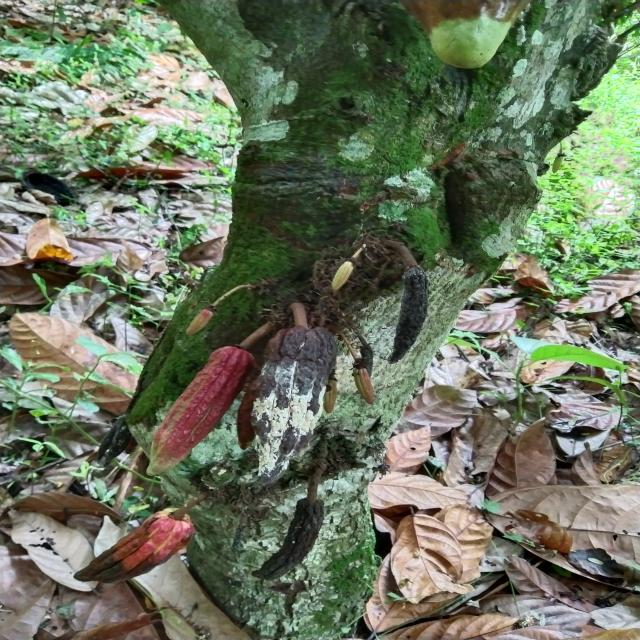Fitoftora: (77, 512, 194, 586), (248, 504, 328, 579)
Monilia: (231, 324, 335, 487), (380, 261, 429, 364)
Sana: (145, 349, 250, 477)
